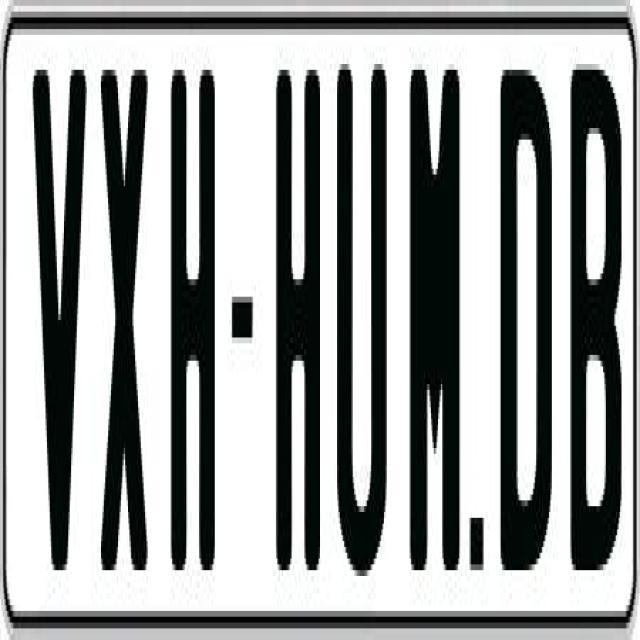B: (567, 70, 613, 588)
D: (497, 70, 548, 588)
H: (273, 52, 326, 582), (168, 52, 220, 553)
M: (410, 58, 468, 588)
U: (336, 58, 392, 594)
V: (32, 52, 92, 582)
X: (98, 58, 154, 582)
